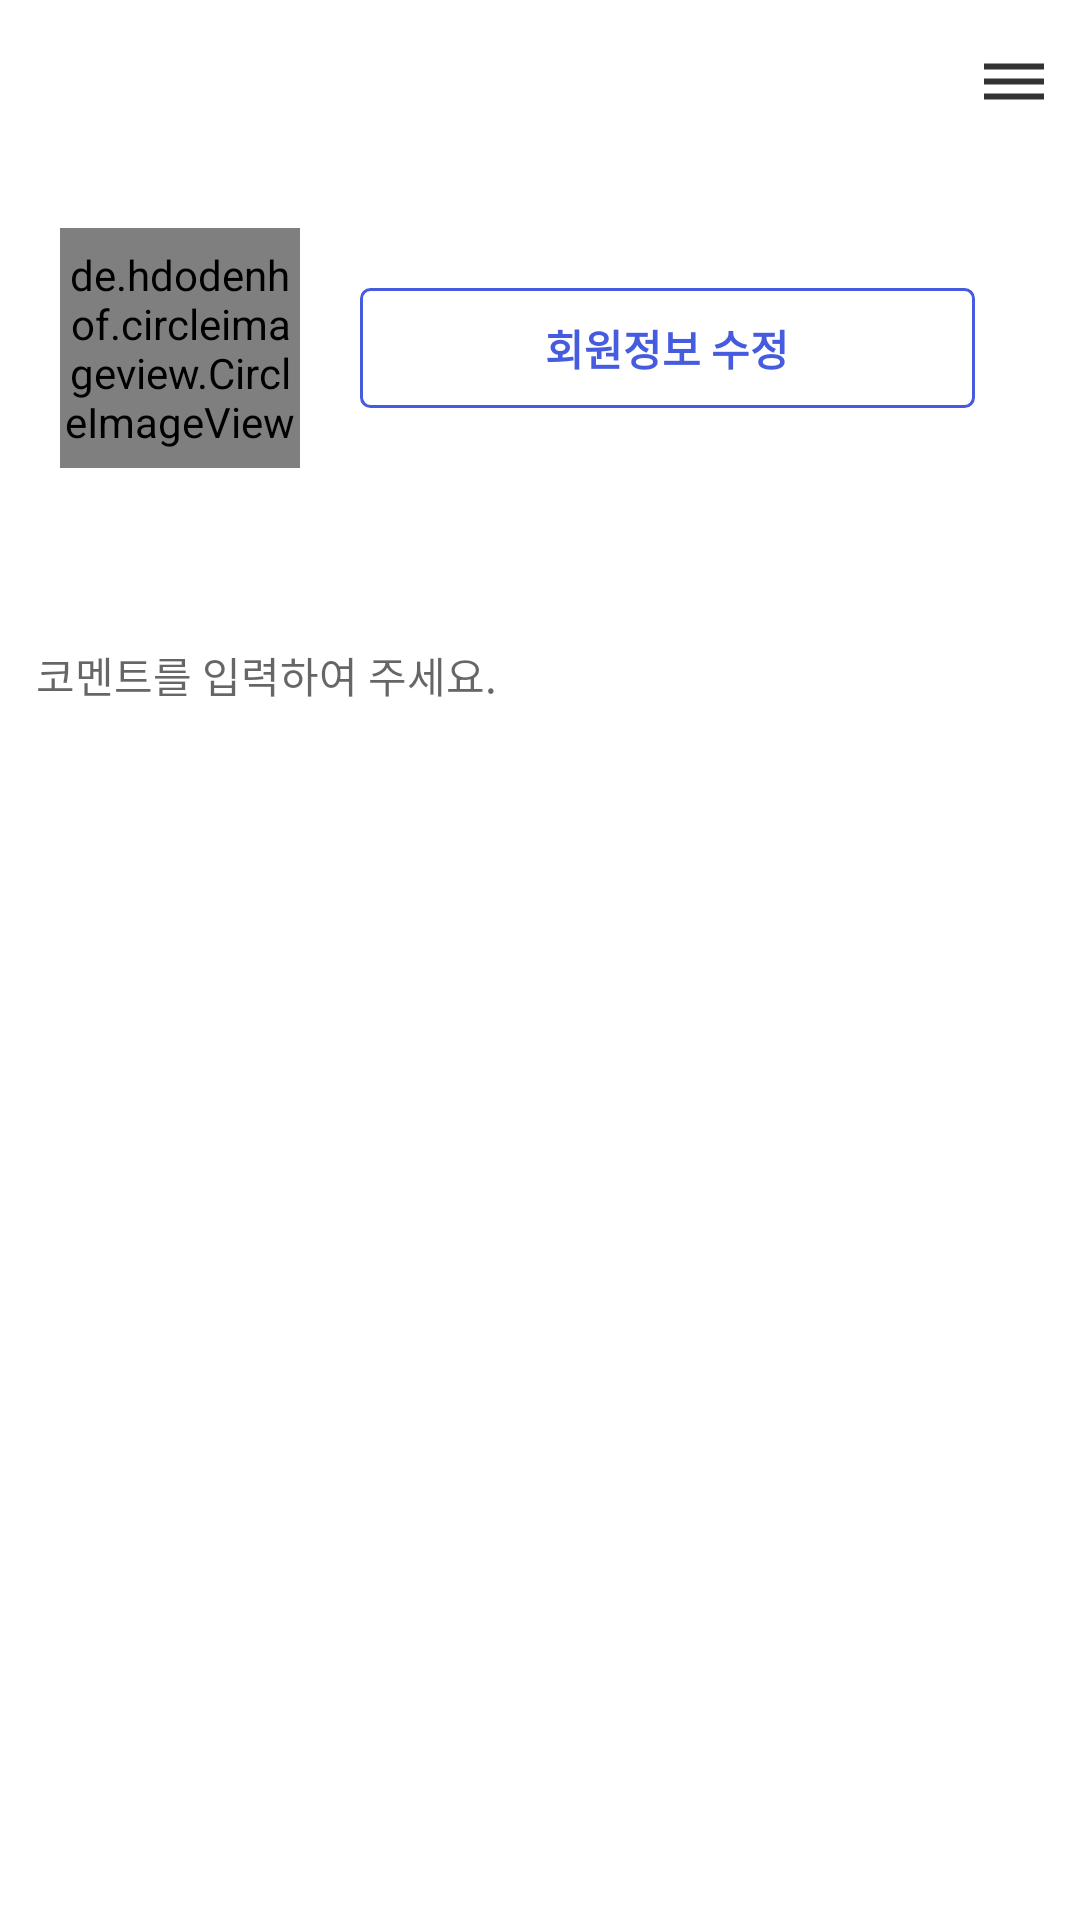

Screen size 1080*1920. Icon name, then its center in pixels as (x,y):
options: (1014,81)
